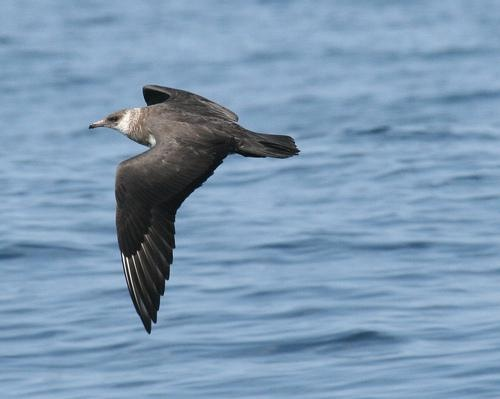bird: (85, 82, 297, 333)
